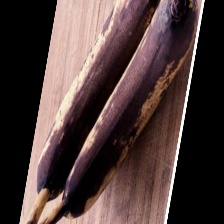banana: (34, 16, 177, 176)
